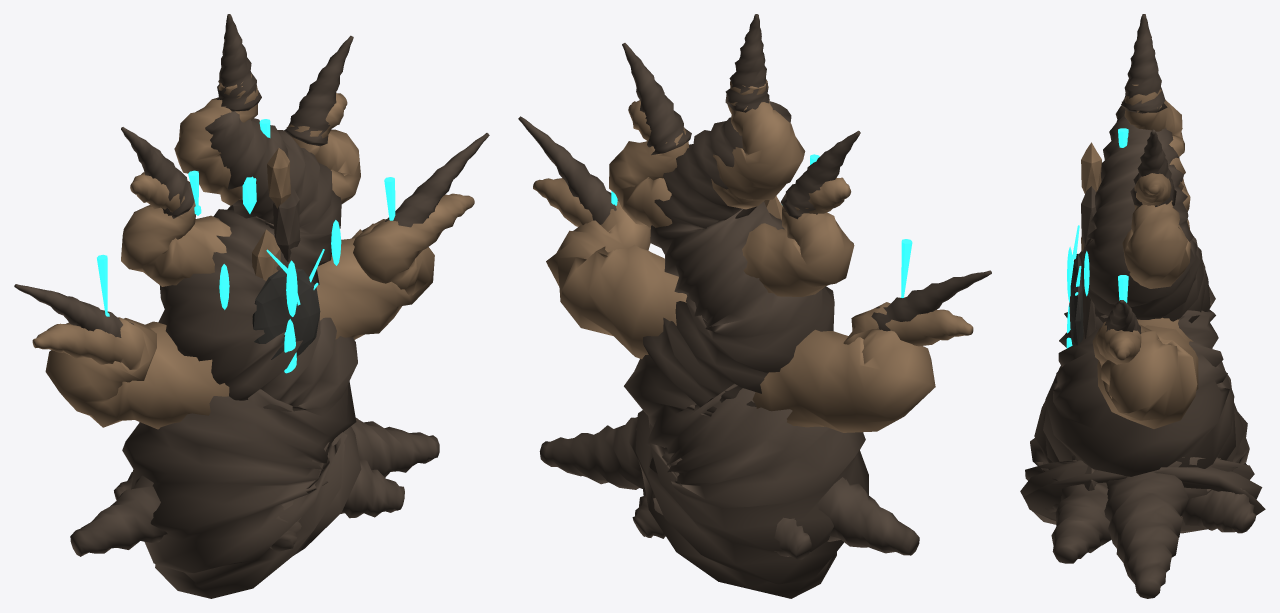
Rendered from ashroot-tree.glb.
The picture shows the model from 3 angles, left to right: view 1: azimuth 30°, elevation 25°; view 2: azimuth 150°, elevation 25°; view 3: azimuth 270°, elevation 25°; orthographic projection. The views are drawn at different scales.
Visible parts, largest first — view 1: Ashroot | twisted trunk, Ashroot | twisted branch 1, Ashroot | twisted branch 2, Ashroot | twisted branch 3, Ashroot | exposed root 1, Ashroot | twisted branch 5, Ashroot | hollow heart, Ashroot | exposed root 2, Ashroot | twisted branch 4, Ashroot | fork 4, Ashroot | fork 2, Ashroot | fork 5 (+6 smaller); view 2: Ashroot | twisted trunk, Ashroot | twisted branch 1, Ashroot | twisted branch 2, Ashroot | twisted branch 3, Ashroot | twisted branch 5, Ashroot | twisted branch 4, Ashroot | exposed root 2, Ashroot | exposed root 1, Ashroot | fork 4, Ashroot | fork 2, Ashroot | fork 5, Ashroot | fork 1 (+3 smaller); view 3: Ashroot | twisted trunk, Ashroot | twisted branch 2, Ashroot | exposed root 2, Ashroot | twisted branch 4, Ashroot | exposed root 4, Ashroot | exposed root 6, Ashroot | fork 5, Ashroot | twisted branch 5, Ashroot | fork 4, Ashroot | hollow heart, Ashroot | bark scar 7, Ashroot | fork 2 (+2 smaller).
Boxes of the visible parts, <box> form: Ashroot | twisted trunk: <box>122,111,361,598</box>; Ashroot | twisted branch 1: <box>32,317,229,429</box>; Ashroot | twisted branch 2: <box>316,193,474,339</box>; Ashroot | twisted branch 3: <box>121,172,231,286</box>; Ashroot | exposed root 1: <box>70,475,167,556</box>; Ashroot | twisted branch 5: <box>174,74,258,205</box>; Ashroot | hollow heart: <box>252,267,320,359</box>; Ashroot | exposed root 2: <box>351,418,439,477</box>; Ashroot | twisted branch 4: <box>286,93,360,203</box>; Ashroot | fork 4: <box>284,35,353,146</box>; Ashroot | fork 2: <box>385,133,489,227</box>; Ashroot | fork 5: <box>217,14,261,111</box>; Ashroot | twisted trunk: <box>624,101,868,598</box>; Ashroot | twisted branch 1: <box>752,302,973,432</box>; Ashroot | twisted branch 2: <box>533,178,687,359</box>; Ashroot | twisted branch 3: <box>742,177,854,296</box>; Ashroot | twisted branch 5: <box>711,80,805,209</box>; Ashroot | twisted branch 4: <box>609,100,688,227</box>; Ashroot | exposed root 2: <box>539,417,644,489</box>; Ashroot | exposed root 1: <box>818,477,919,555</box>; Ashroot | fork 4: <box>622,43,691,155</box>; Ashroot | fork 2: <box>518,116,618,224</box>; Ashroot | fork 5: <box>725,14,769,112</box>; Ashroot | fork 1: <box>871,270,991,331</box>; Ashroot | twisted trunk: <box>1020,101,1265,533</box>; Ashroot | twisted branch 2: <box>1092,317,1198,428</box>; Ashroot | exposed root 2: <box>1104,461,1188,598</box>; Ashroot | twisted branch 4: <box>1122,173,1190,288</box>; Ashroot | exposed root 4: <box>1051,455,1111,563</box>; Ashroot | exposed root 6: <box>1181,457,1256,533</box>; Ashroot | fork 5: <box>1121,14,1167,113</box>; Ashroot | twisted branch 5: <box>1124,79,1185,190</box>; Ashroot | fork 4: <box>1130,129,1176,206</box>; Ashroot | hollow heart: <box>1069,254,1083,345</box>; Ashroot | bark scar 7: <box>1081,142,1101,193</box>; Ashroot | fork 2: <box>1104,300,1141,334</box>.
Bounding box in the file's own units: 3.38 × 3.81 × 1.55.
